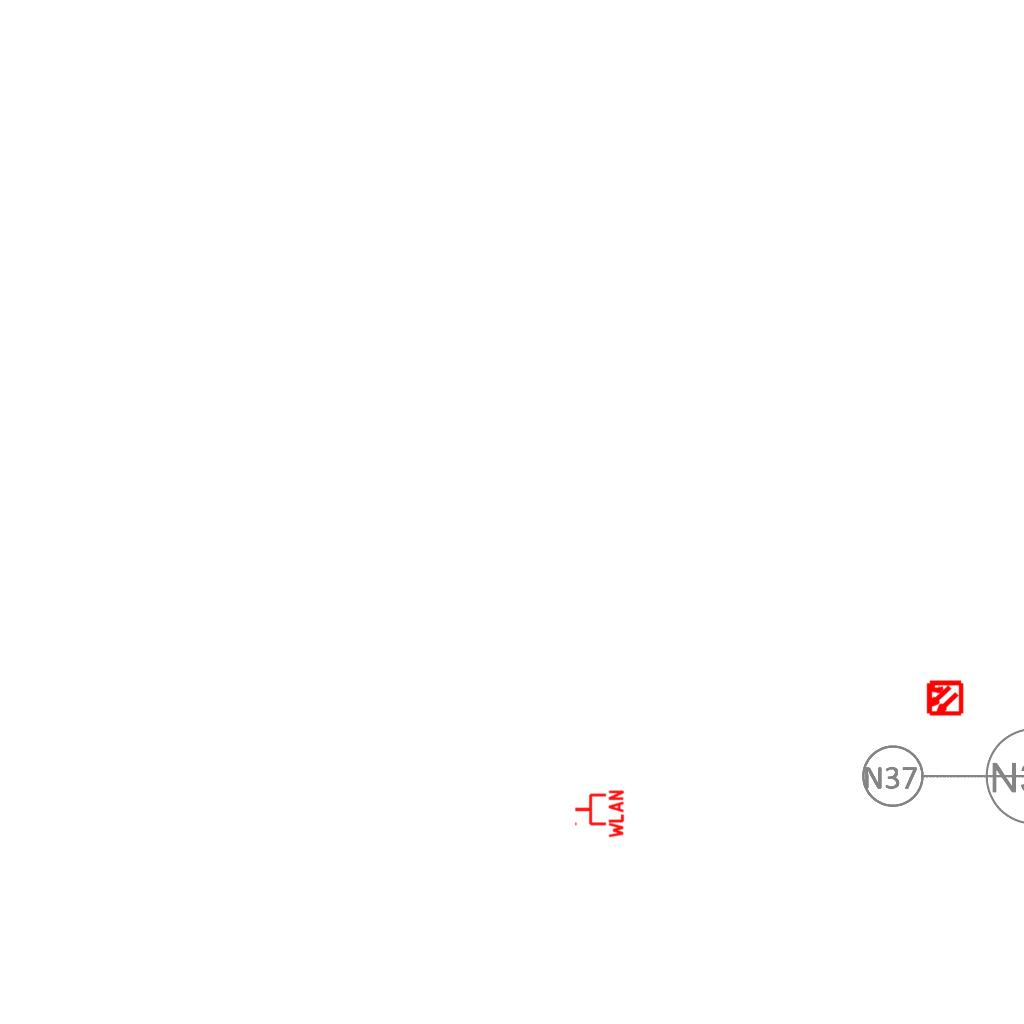OT_Multisensormelder_(Kombination_RMO_WMD): (916, 670, 972, 726)
WLAN: (573, 788, 625, 840)
